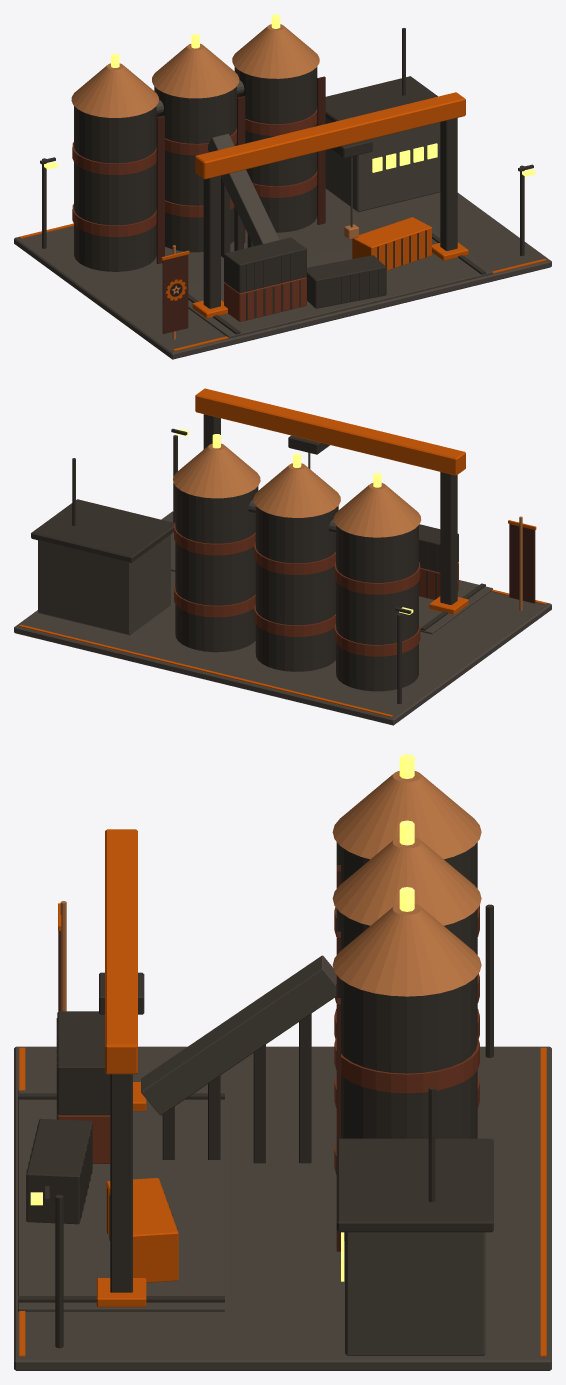
The model's file is Thorvald_ConsignmentTerminal.fbx.
3 views of the same model, one above another, from view 1: azimuth 30°, elevation 25°; view 2: azimuth 150°, elevation 25°; view 3: azimuth 270°, elevation 25° (orthographic). The views are drawn at different scales.
Parts seen in each view (by area): view 1: Thorvald_ConsignmentTerminal; view 2: Thorvald_ConsignmentTerminal; view 3: Thorvald_ConsignmentTerminal.
Boxes of the visible parts, <box> form: Thorvald_ConsignmentTerminal: <box>14,14,551,359</box>; Thorvald_ConsignmentTerminal: <box>14,388,551,725</box>; Thorvald_ConsignmentTerminal: <box>14,754,551,1370</box>.
Bounding box in the file's own units: 18 × 9.3 × 13.
9 materials, 1 textured.
